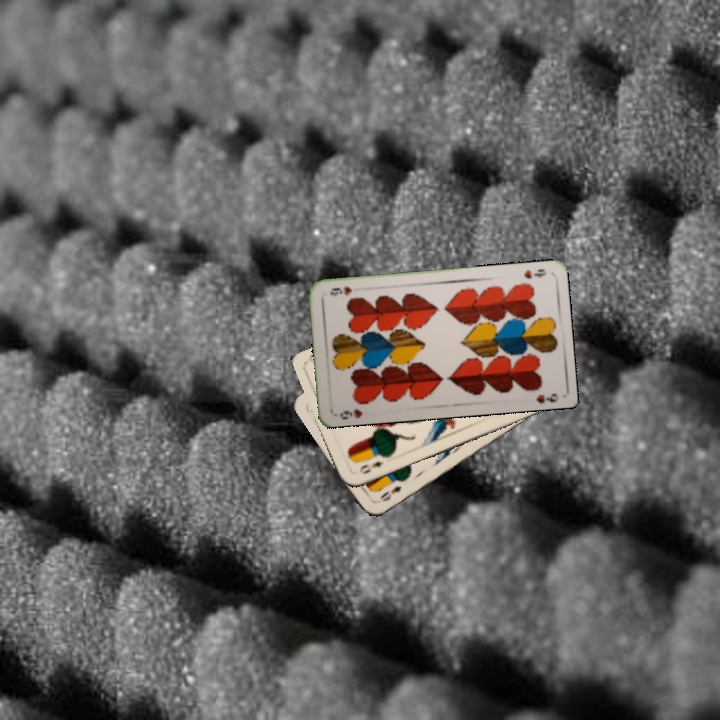EO: (375, 482, 404, 505), (355, 457, 386, 477)
H9: (336, 404, 364, 422), (520, 265, 548, 281)
